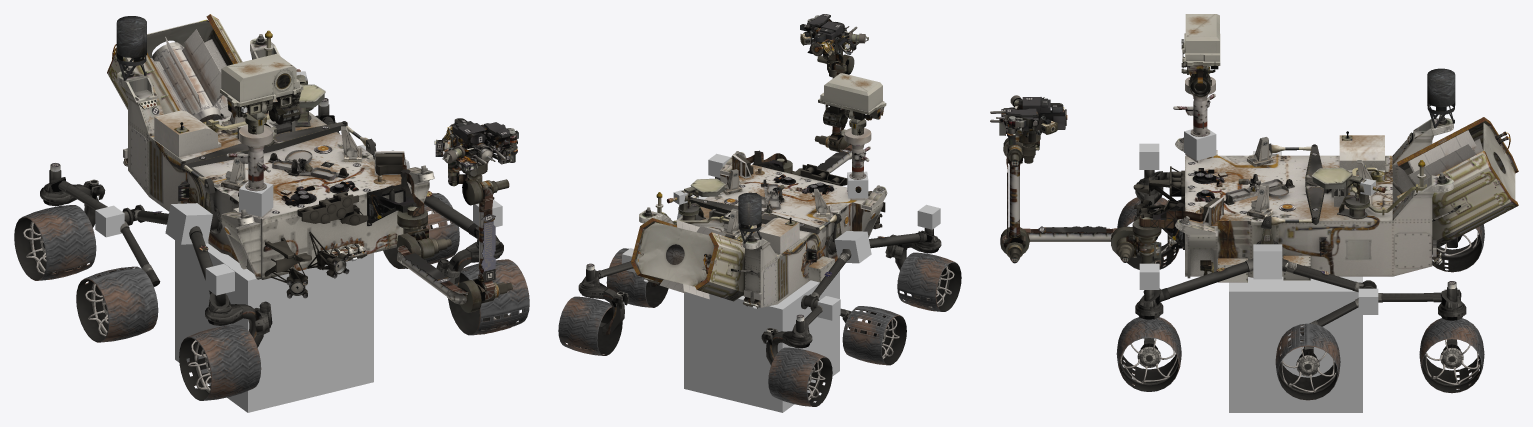
The model's file is MSL_dirty 1.fbx.
3 renders of one model, left to right at view 1: azimuth 30°, elevation 25°; view 2: azimuth 150°, elevation 25°; view 3: azimuth 270°, elevation 25°, orthographic. The views are drawn at different scales.
Parts seen in each view (by area): view 1: Chassis, _root_p, stuff, wheel_02_R, wheel_03_R, wheel_01_R, RTG, wheel_01_L, ChemCam, arm_03, arm_02, suspension_arm_B2_R (+22 smaller); view 2: _root_p, stuff, Chassis, wheel_01_R, wheel_03_R, wheel_02_R, wheel_03_L, ChemCam, wheel_02_L, suspension_steer_B_L, RTG, antenna_UHF (+22 smaller); view 3: Chassis, stuff, _root_p, wheel_02_L, wheel_01_L, wheel_03_L, ChemCam, RTG, arm_02, suspension_arm_B2_L, arm_03, suspension_arm_F_L (+18 smaller).
Boxes of the visible parts, x1=… form: Chassis: x1=117, y1=38, x2=434, y2=279; _root_p: x1=175, y1=240, x2=373, y2=412; stuff: x1=107, y1=14, x2=429, y2=298; wheel_02_R: x1=76, y1=266, x2=158, y2=342; wheel_03_R: x1=14, y1=205, x2=96, y2=280; wheel_01_R: x1=179, y1=325, x2=261, y2=400; RTG: x1=150, y1=29, x2=231, y2=122; wheel_01_L: x1=448, y1=259, x2=529, y2=335; ChemCam: x1=220, y1=53, x2=303, y2=106; arm_03: x1=462, y1=178, x2=509, y2=300; arm_02: x1=397, y1=245, x2=512, y2=312; suspension_arm_B2_R: x1=44, y1=163, x2=160, y2=286; _root_p: x1=684, y1=271, x2=839, y2=412; stuff: x1=630, y1=150, x2=885, y2=301; Chassis: x1=639, y1=152, x2=887, y2=307; wheel_01_R: x1=897, y1=252, x2=961, y2=311; wheel_03_R: x1=768, y1=347, x2=832, y2=406; wheel_02_R: x1=842, y1=306, x2=906, y2=365; wheel_03_L: x1=558, y1=296, x2=622, y2=355; ChemCam: x1=818, y1=73, x2=886, y2=114; wheel_02_L: x1=606, y1=248, x2=668, y2=307; suspension_steer_B_L: x1=578, y1=283, x2=629, y2=335; RTG: x1=659, y1=220, x2=726, y2=299; antenna_UHF: x1=738, y1=192, x2=761, y2=243; Chassis: x1=1175, y1=118, x2=1453, y2=278; stuff: x1=1132, y1=115, x2=1518, y2=282; _root_p: x1=1229, y1=276, x2=1362, y2=412; wheel_02_L: x1=1275, y1=323, x2=1340, y2=400; wheel_01_L: x1=1116, y1=317, x2=1181, y2=391; wheel_03_L: x1=1419, y1=318, x2=1484, y2=393; ChemCam: x1=1182, y1=14, x2=1220, y2=65; RTG: x1=1407, y1=130, x2=1499, y2=185; arm_02: x1=1000, y1=226, x2=1117, y2=263; suspension_arm_B2_L: x1=1300, y1=280, x2=1462, y2=352; arm_03: x1=1002, y1=137, x2=1025, y2=248; suspension_arm_F_L: x1=1138, y1=258, x2=1253, y2=308.
Bounding box in the file's own units: 278 × 271 × 394.
